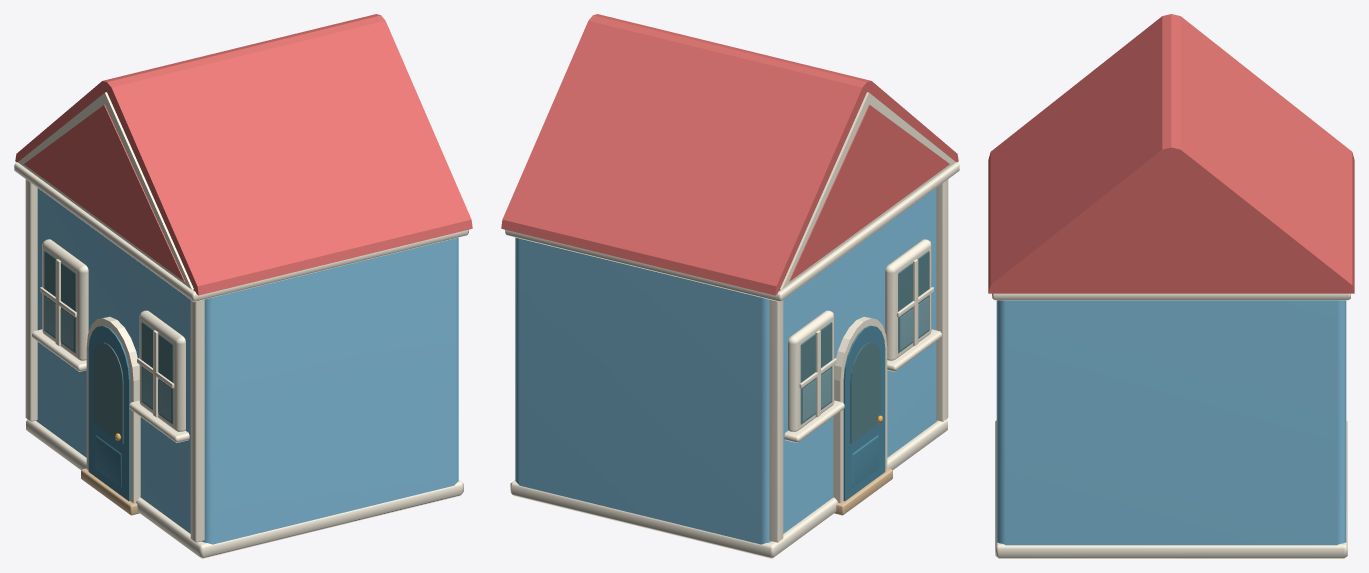
The model's file is town_house_a.glb.
The picture shows the model from 3 angles, left to right: view 1: azimuth 30°, elevation 25°; view 2: azimuth 150°, elevation 25°; view 3: azimuth 270°, elevation 25°; orthographic projection.
Visible parts, largest first — view 1: Shell, Roof, Facade, Gable, Step; view 2: Shell, Roof, Facade, Gable, Step; view 3: Shell, Roof.
Boxes of the visible parts, x1,y1,x2,y2 form: Shell: (26,188,463,558); Roof: (14,14,472,301); Facade: (25,179,204,542); Gable: (18,92,193,289); Step: (81,468,139,515); Shell: (510,188,947,558); Roof: (501,14,959,301); Facade: (769,179,948,542); Gable: (780,92,955,289); Step: (834,468,892,515); Shell: (995,300,1347,558); Roof: (988,14,1354,300).
Bounding box in the file's own units: 3.5 × 5 × 4.
8 materials, 8 textured.
